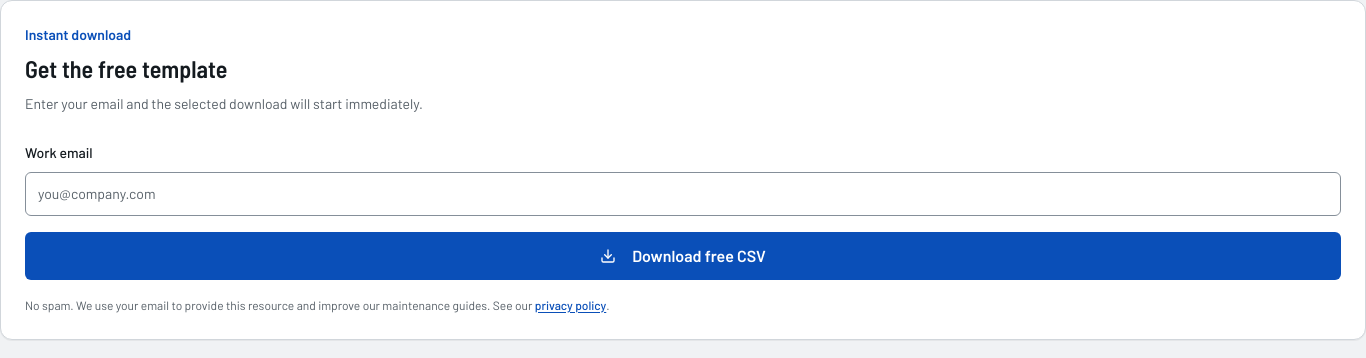
Test case: TemplateDownloadForm › records the lead before exposing the repeat-download action
Type "operator@example.com" into the field labelled "Work email" at x=683, y=194, box [25, 172, 1341, 216]
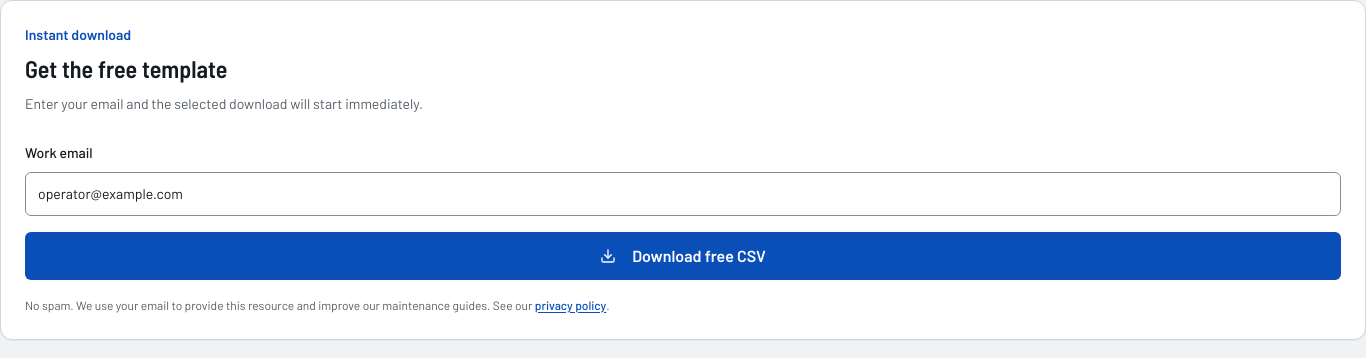
Click the button "Download free CSV" at x=683, y=256, box [25, 232, 1341, 280]
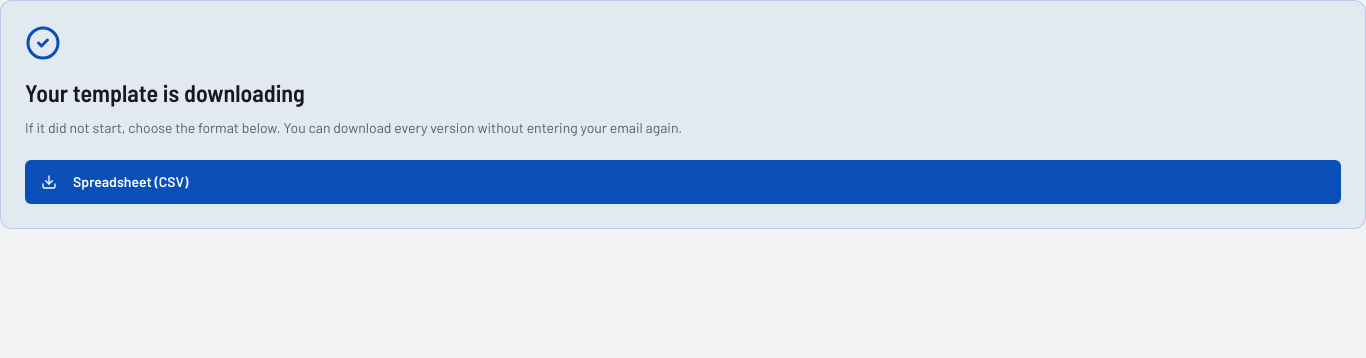
Check: the heading "Your template is downloading" is shown, box [25, 78, 305, 107]
